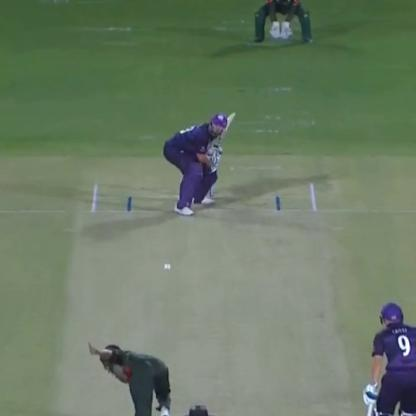ball: (156, 260, 175, 272)
bat: (209, 106, 238, 152)
pitch: (55, 180, 358, 416)
